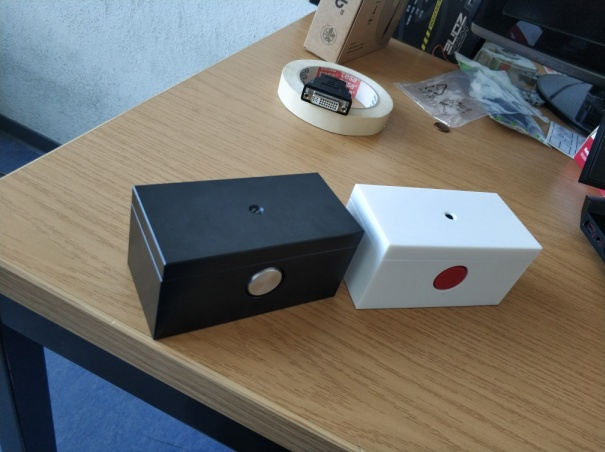black+black+silver: (126, 171, 367, 343)
white+white+red: (344, 182, 546, 311)
